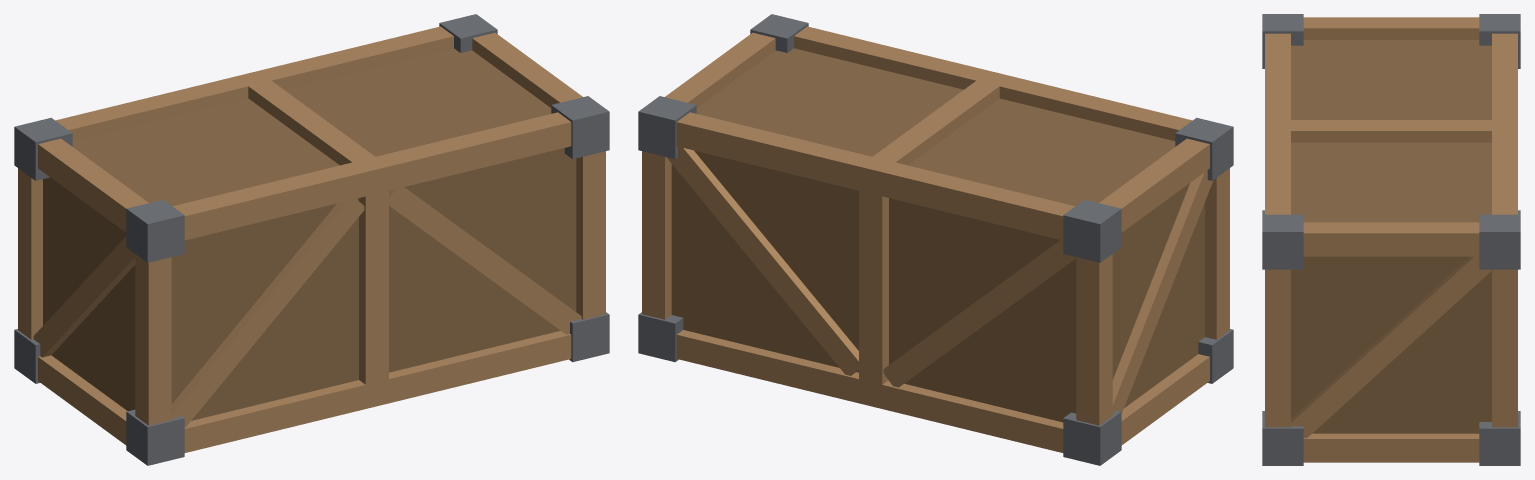
File: crate_long_01.glb
3 renders of one model, left to right at view 1: azimuth 30°, elevation 25°; view 2: azimuth 150°, elevation 25°; view 3: azimuth 270°, elevation 25°, orthographic. The views are drawn at different scales.
Visible parts, largest first — view 1: CrateLong_01; view 2: CrateLong_01; view 3: CrateLong_01.
Part boxes in pixels (x1,y1,x2,y2): CrateLong_01: (14, 14, 609, 465); CrateLong_01: (638, 14, 1233, 465); CrateLong_01: (1262, 14, 1520, 465).
Size of the model in its own units: 2 by 1 by 1.
